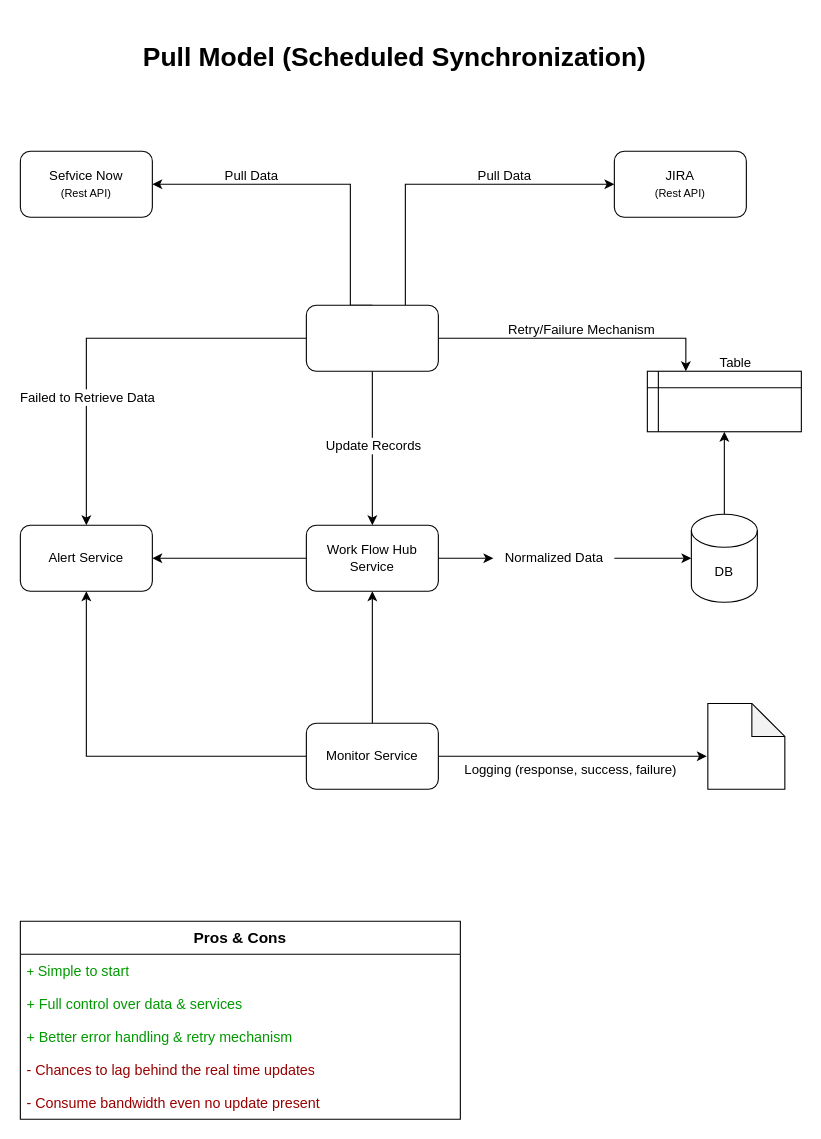
The diagram is 821 pixels wide and 1139 high, and some of its shapes have lost their labels. Here are the shapes that lost their labels. From the top down, the centre of each, then its label:
At point 371,337: "Polling Service".
At point 723,401: "Last Sync Timestamp".
At point 746,745: "Files".
